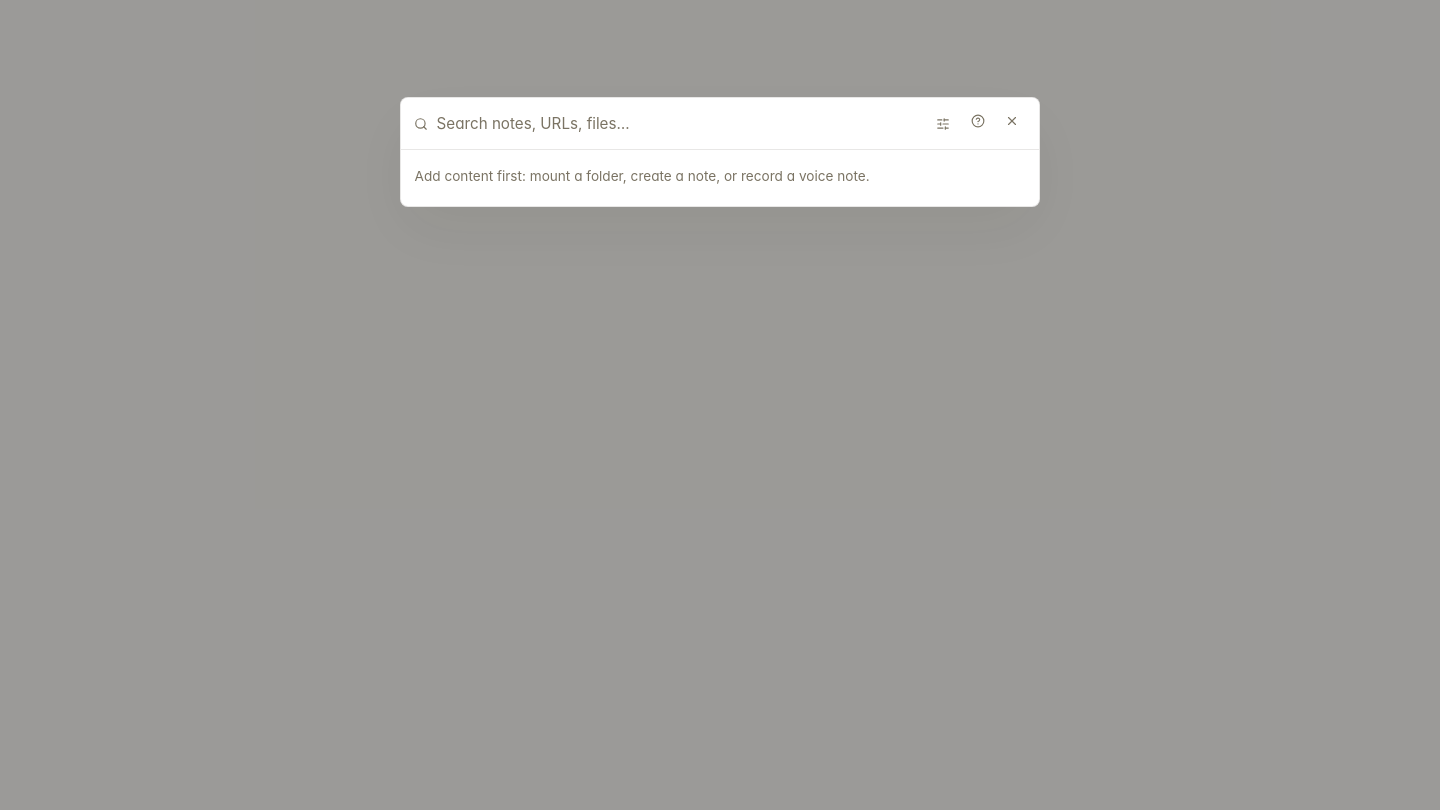
SearchPalette › renders search results from the client and shows degraded banner
Type "PKCE" into the dropdown. click: (678, 124)
box: [437,109,919,138]
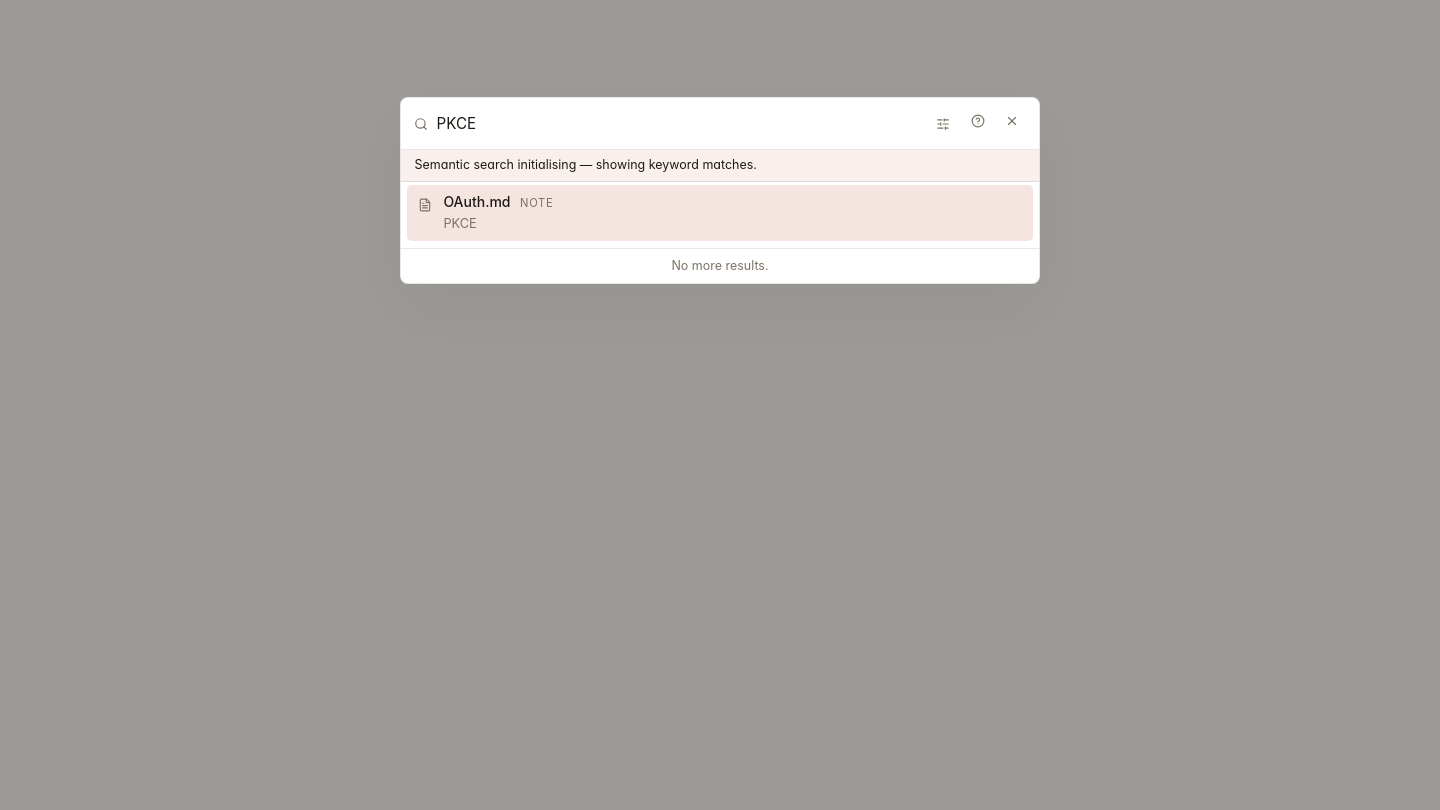
expect the text "OAuth.md" is shown: met, box [443,192,510,212]
expect the text "Semantic search initialising — showing keyword matches." is shown: met, box [401,150,1039,182]
